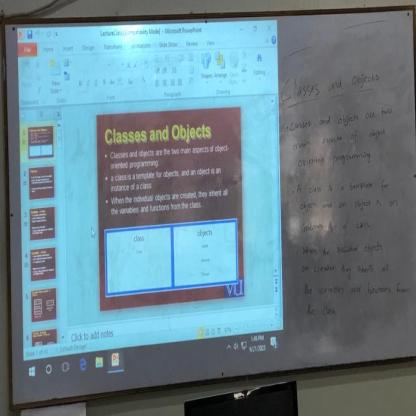Handwritten text: (283, 91, 399, 137), (288, 120, 393, 158), (278, 66, 385, 102), (293, 172, 392, 198), (296, 194, 400, 217), (299, 278, 412, 297), (296, 144, 376, 170), (297, 216, 375, 240), (299, 239, 387, 260), (297, 260, 393, 277), (304, 301, 339, 320)
